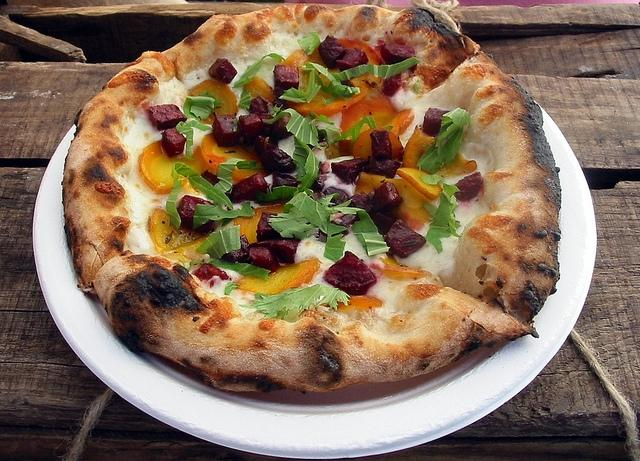carrot: (282, 48, 369, 118), (339, 88, 416, 135), (233, 257, 323, 296), (138, 140, 200, 194), (200, 134, 262, 186), (190, 80, 238, 125), (234, 204, 285, 244), (400, 124, 438, 170), (384, 178, 432, 209), (244, 77, 275, 101), (380, 264, 433, 278)
lettuce: (166, 162, 234, 230), (284, 191, 348, 262), (239, 284, 351, 319), (424, 182, 462, 254), (265, 108, 324, 150), (417, 126, 463, 174), (332, 57, 421, 81), (231, 54, 285, 88), (306, 62, 354, 100), (352, 210, 391, 256), (292, 136, 320, 196), (214, 158, 263, 192), (196, 224, 242, 260), (193, 201, 254, 228), (208, 258, 272, 282), (278, 68, 321, 103), (176, 120, 212, 160), (183, 90, 225, 121), (334, 116, 376, 142), (256, 186, 300, 202), (296, 30, 321, 56), (314, 73, 334, 93)
